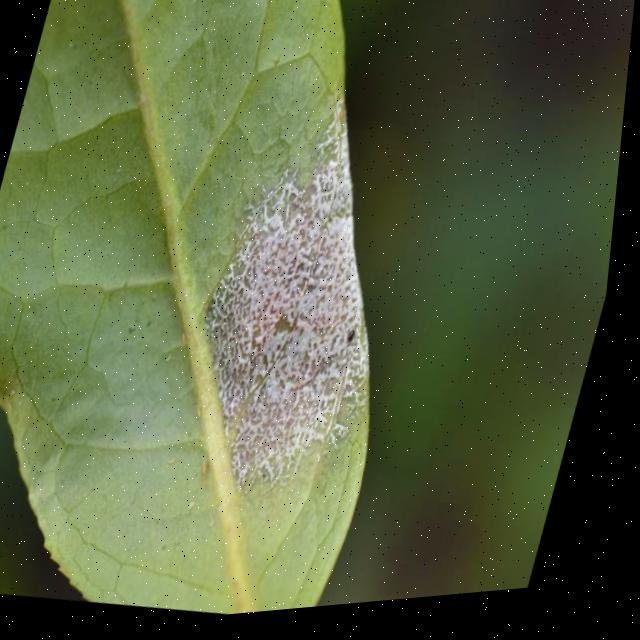Tea exobasidium blight: (177, 73, 453, 503)
